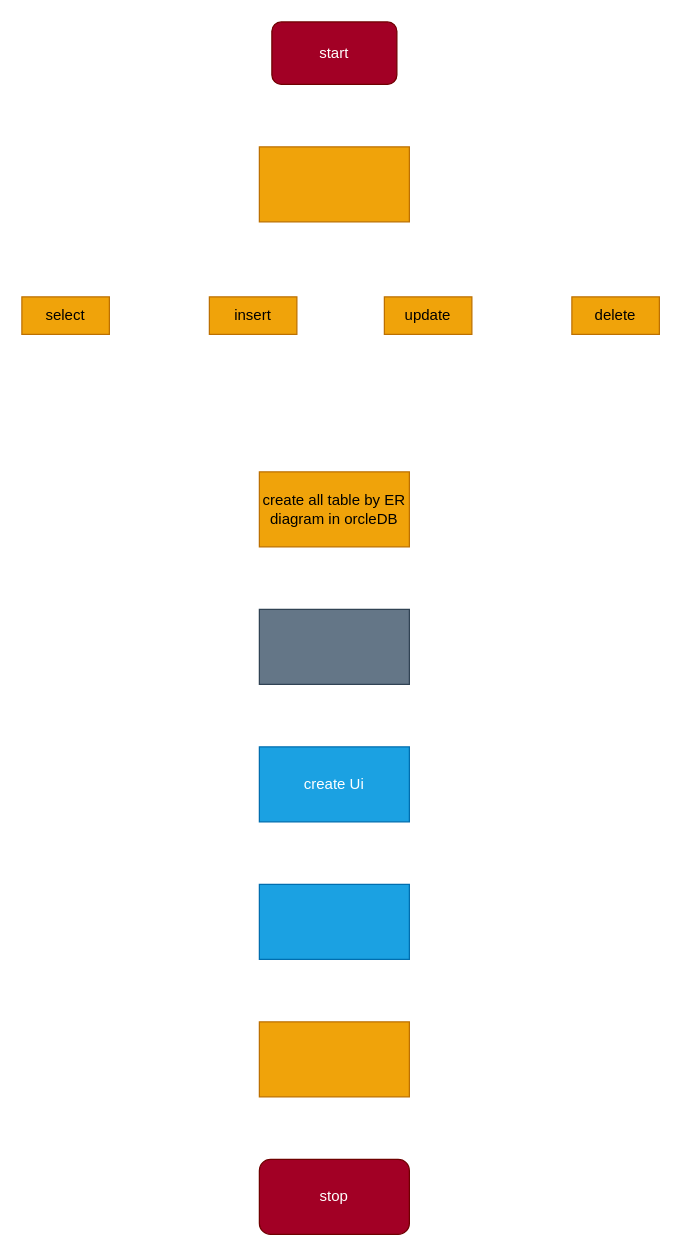
This 681x1256 diagram has some shape labels left out. The centre of each missing label's shape, as x and y in pixels:
"connect oracleDB with python" goes at point 333,184.
"create Ai" goes at point 333,646.
"merge Ai, Ui, conDB" goes at point 333,921.
"slide for present" goes at point 333,1059.
